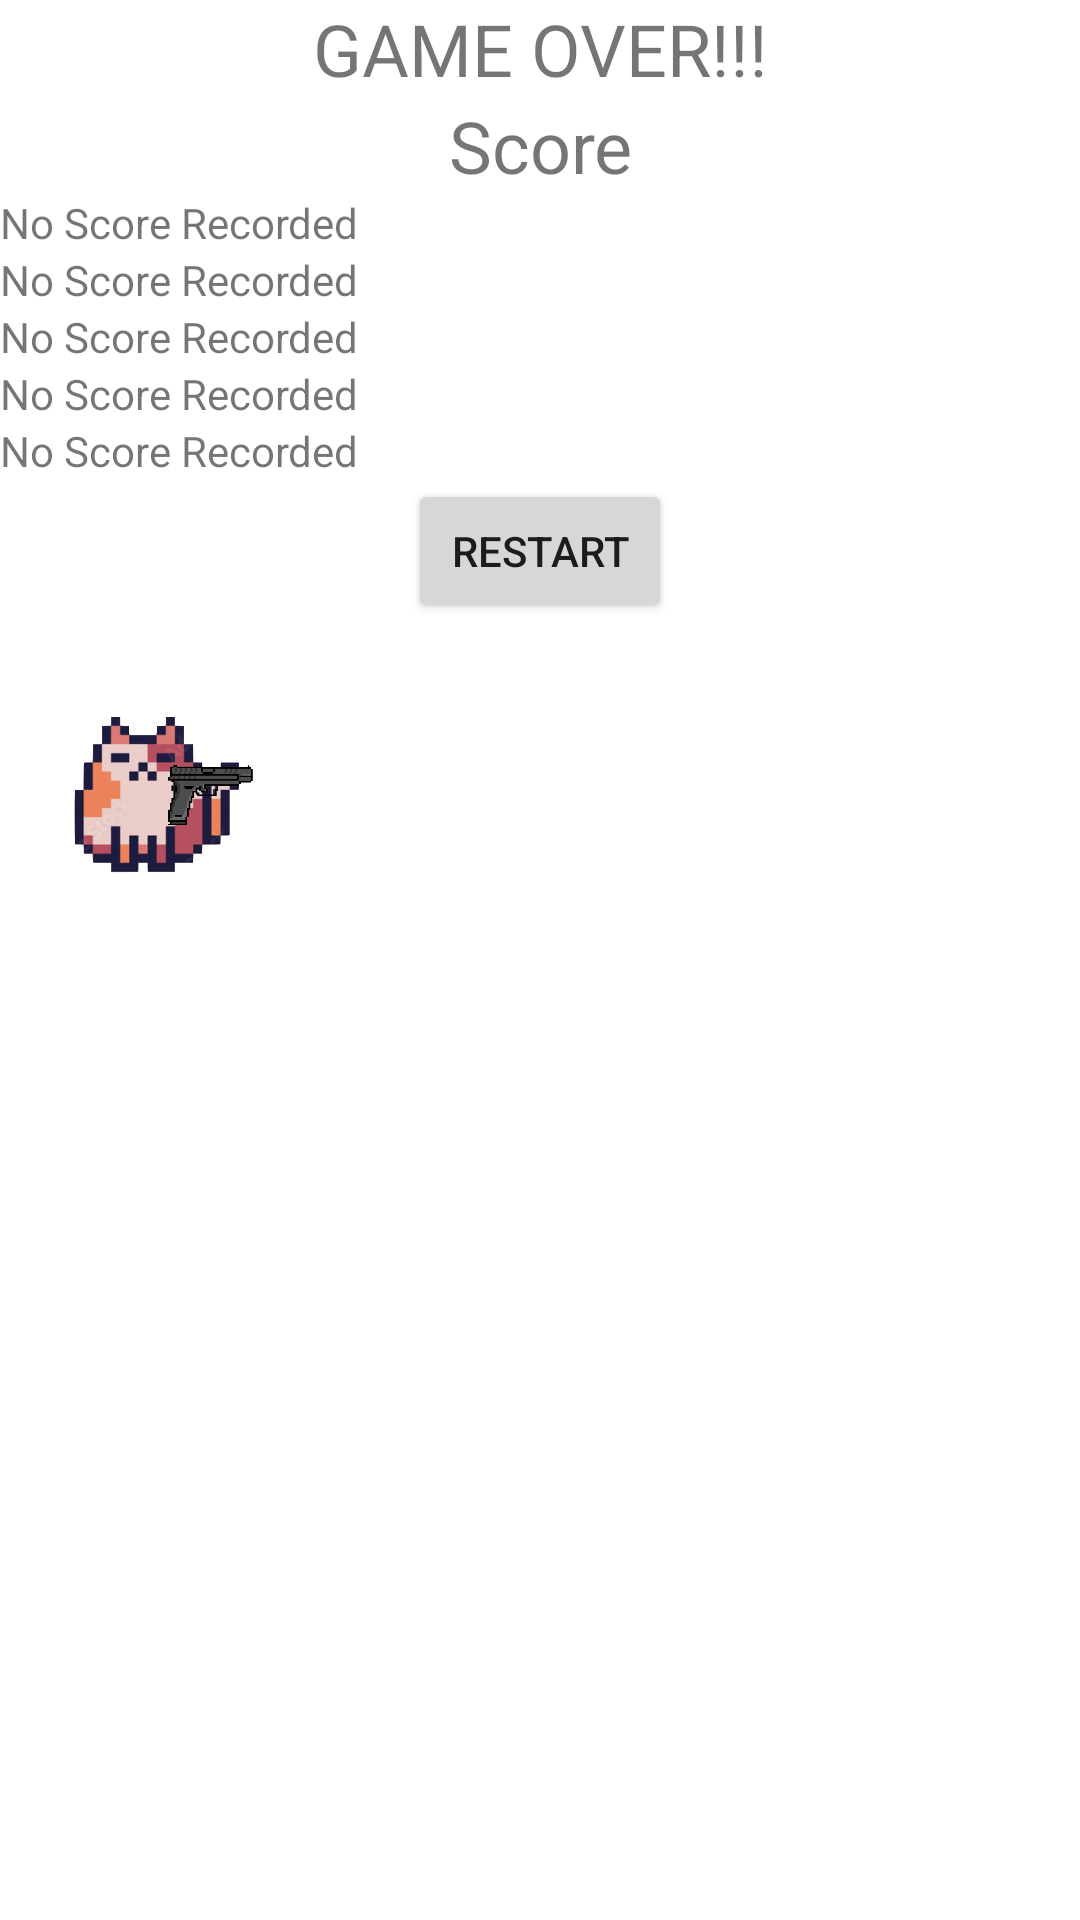

Named icons in this screenshot (1080x1920) and their bounding boxes, (x1, y1, x2, y2):
character: (74, 717, 253, 872)
